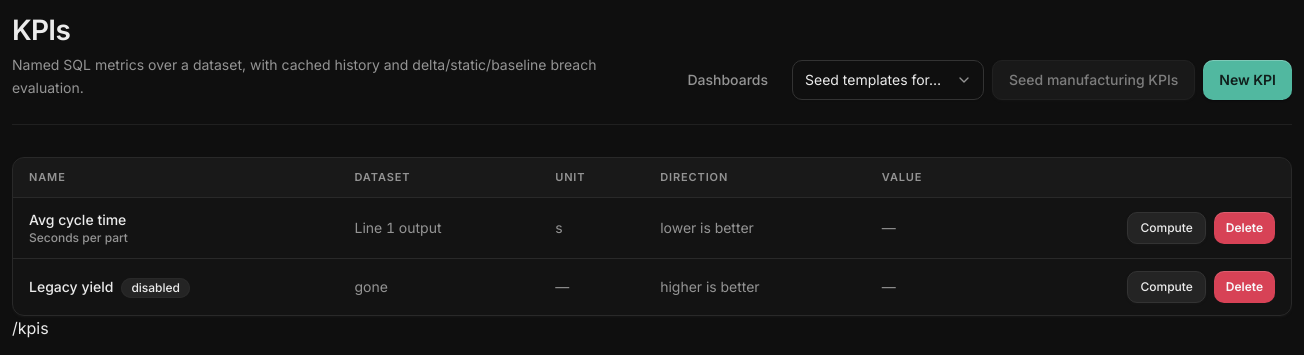
it: Kpis › computes a KPI and shows its value and status, or its error
Expected: the text "Avg cycle time" is shown, [29, 211, 126, 228]
Step 1. Click the button "Compute" in the row of "Avg cycle time" → click(1167, 228), box [1127, 212, 1206, 244]
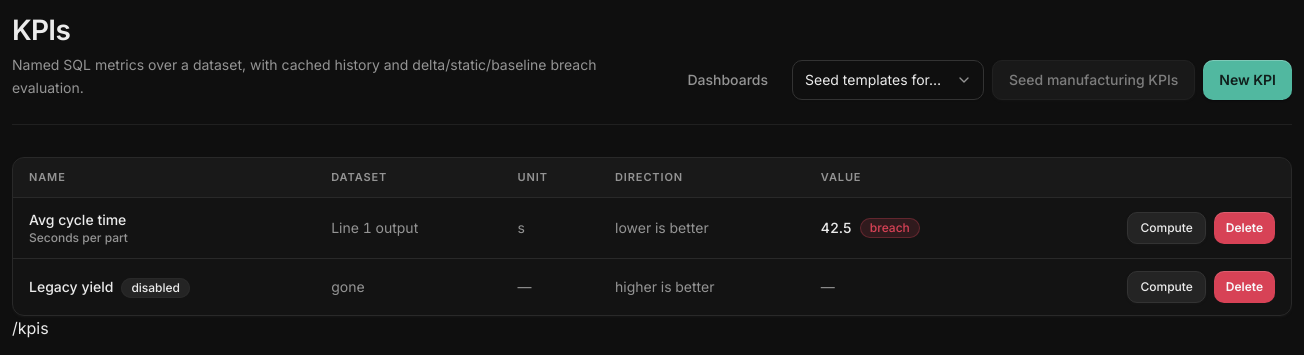
Now the text "42.5" is shown, box [821, 218, 852, 238]
Now the text "breach" is shown, box [860, 218, 920, 238]
Step 2. Click the button "Compute" in the row of "Legacy yield" → click(1167, 287), box [1127, 271, 1206, 303]
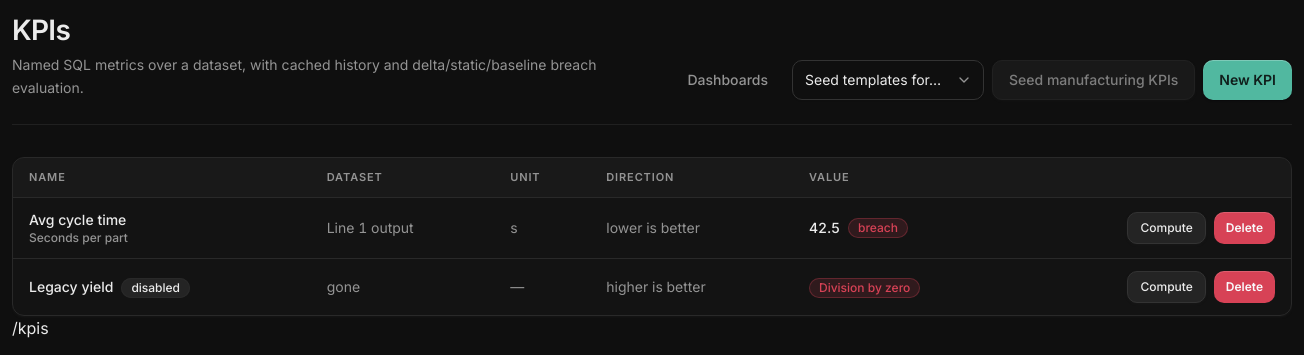
Now the text "42.5" is shown, box [809, 218, 840, 238]
Now the text "Division by zero" is shown, box [809, 278, 920, 298]
